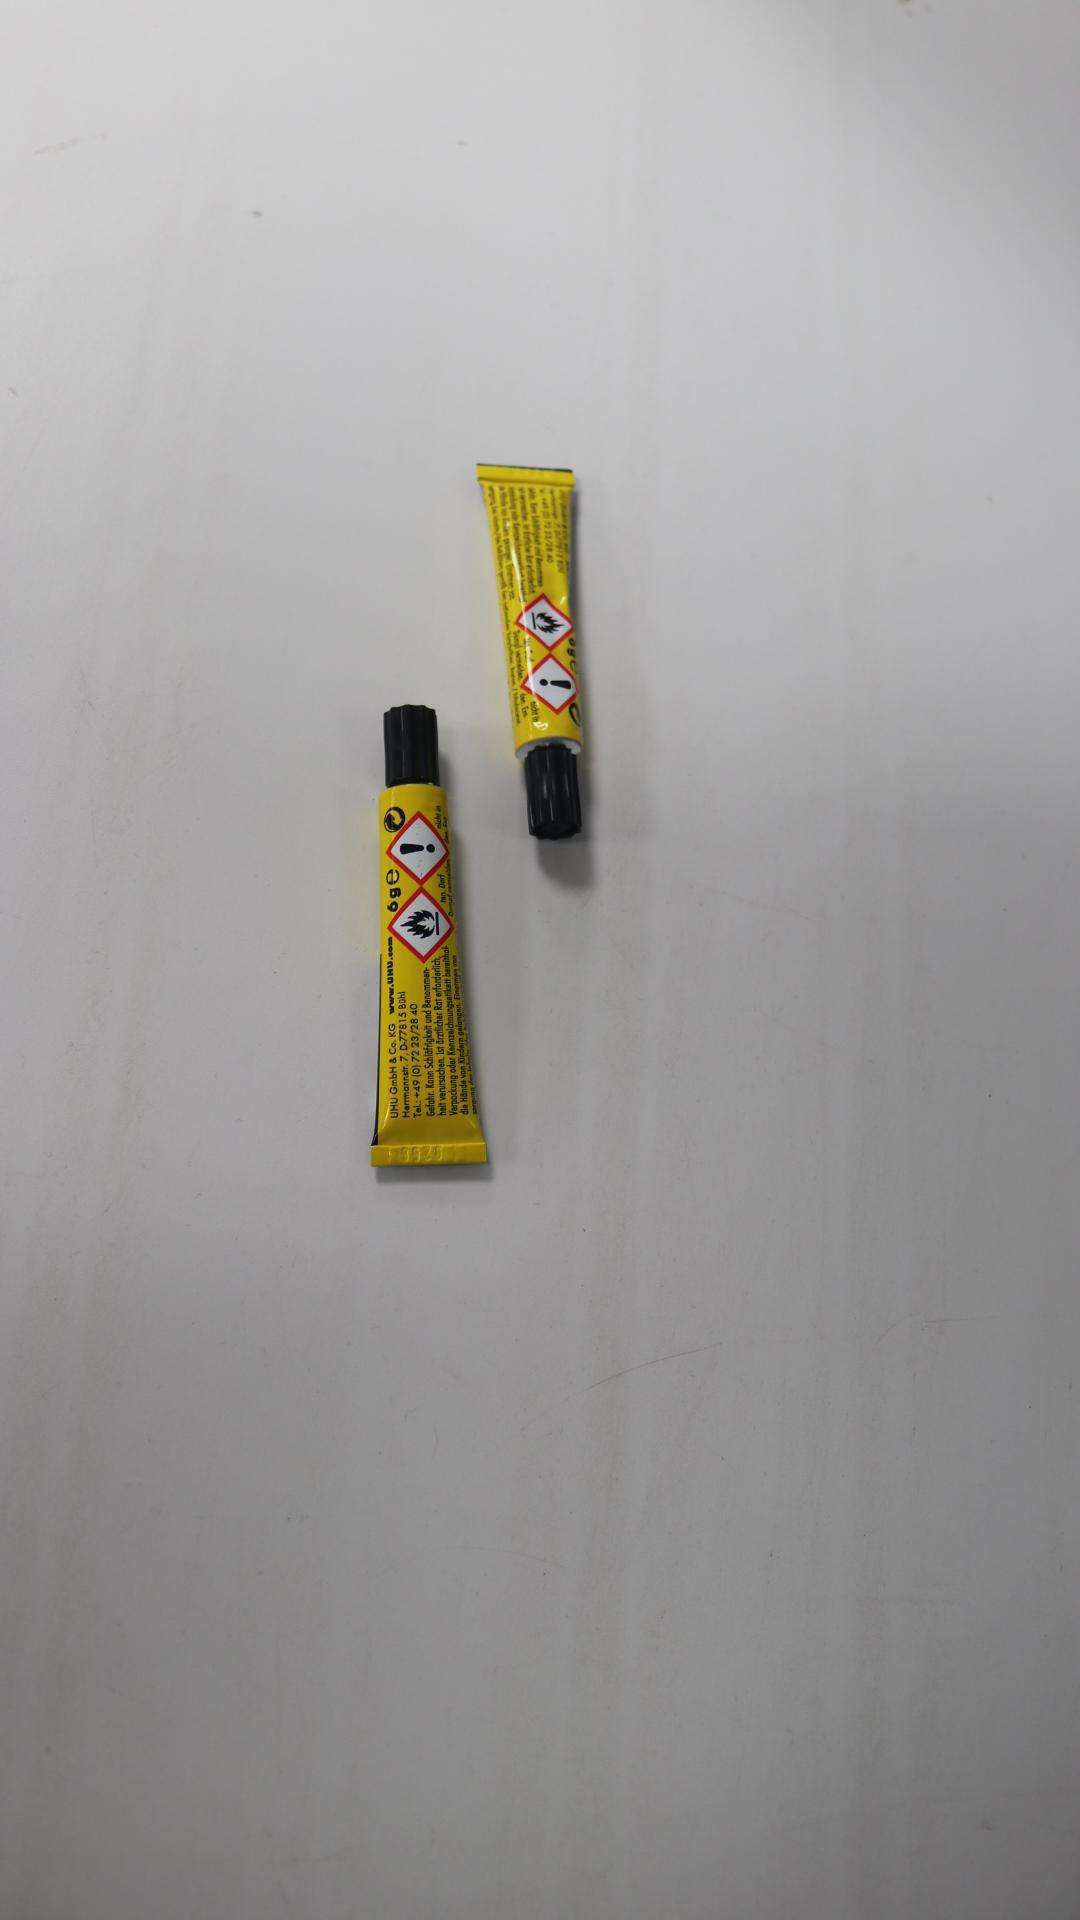Head: (408, 740, 417, 756), (550, 778, 558, 790)
Tail: (419, 1148, 437, 1162), (516, 469, 532, 481)
Tube: (368, 703, 488, 1170), (475, 462, 587, 841)
